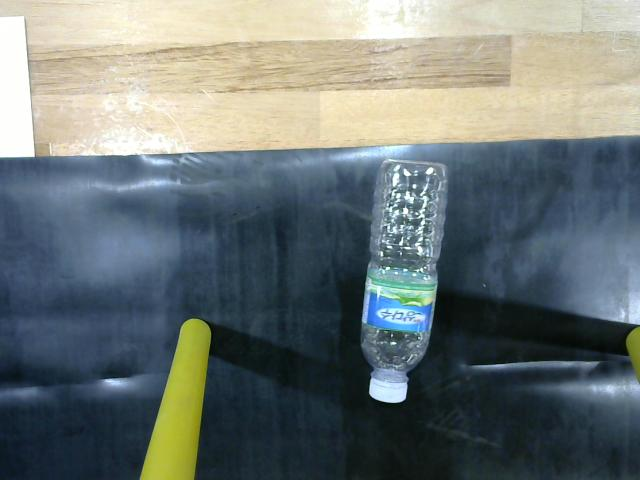bottle: (340, 153, 470, 412)
